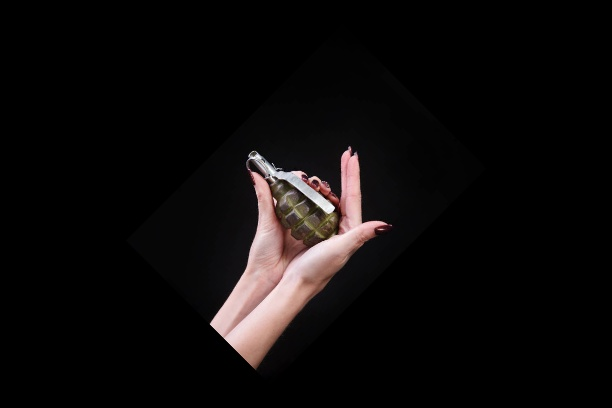e1: (246, 148, 344, 250)
